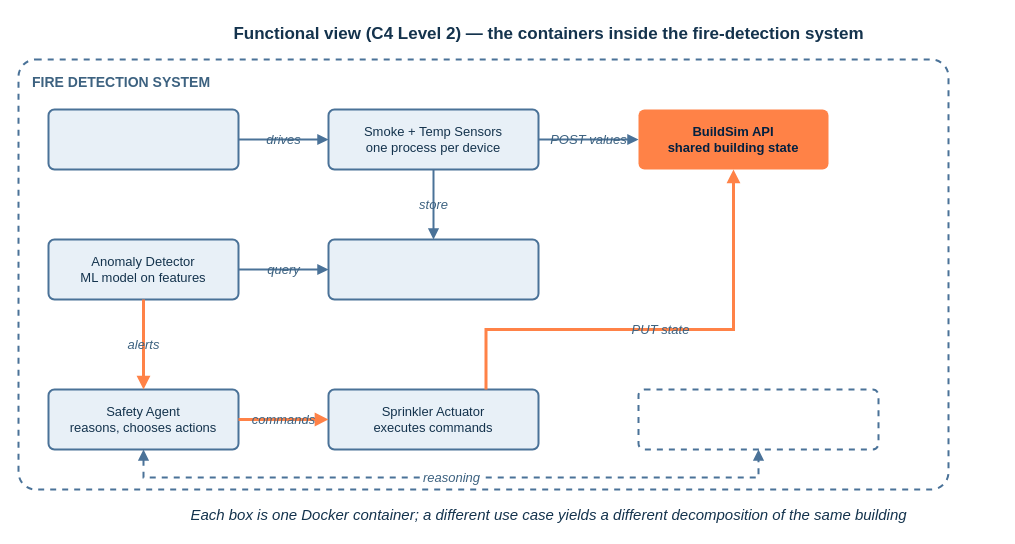
This 1015x544 diagram has some shape labels left out. The shapes that lost their labels are listed below. From the top down, each one's centre as x and y in pixels, then its label:
point 143,139: Fire Simulator drives the physics
point 433,269: InfluxDB time-series history
point 758,419: GPU Server (LLM) external — outside the boundary
